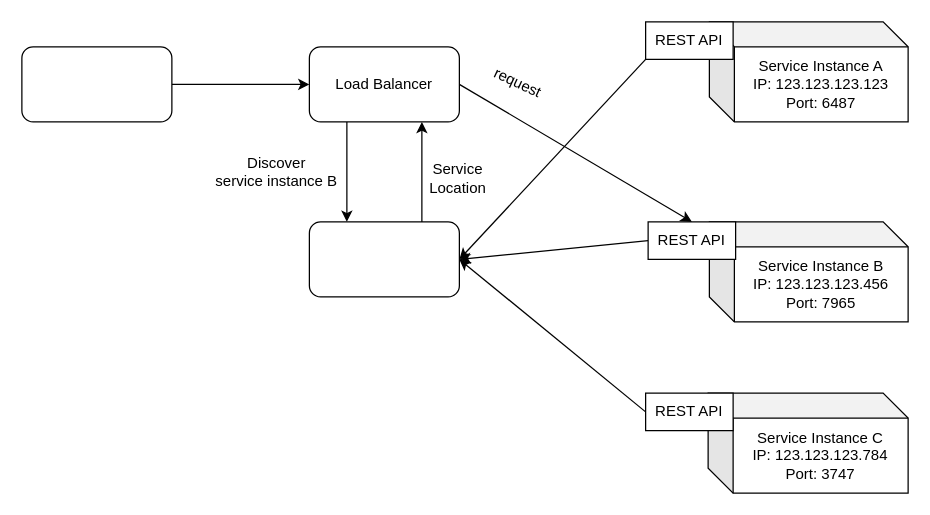
Image size: 930x515. Some labels were removed from this diagram. The shapes that lost their labels are listed below. From the top down, each one's box as (x1, y1, x2, y2) in pixels, then its label:
(21, 46, 172, 122): API Gateway or Client
(308, 221, 459, 297): Service Registry
